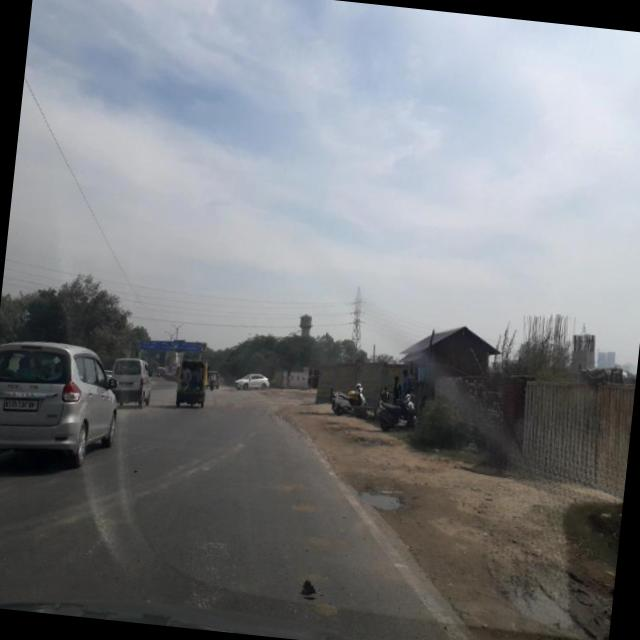pothole: (348, 472, 428, 539)
